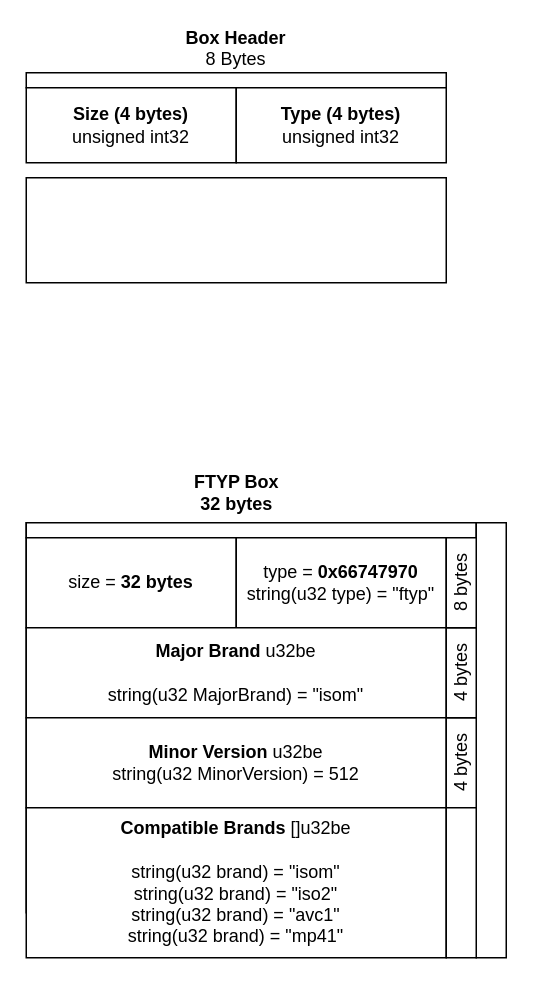
Some shapes in this 533 by 984 pixel diagram are drawn without their labels. Here are the shapes that lost their labels. From the top down, the centre of each, then its label:
the point at 235,229: Box Data (N bytes = size - 8 bytes)
the point at 490,739: 32 bytes
the point at 460,882: 16 bytes
